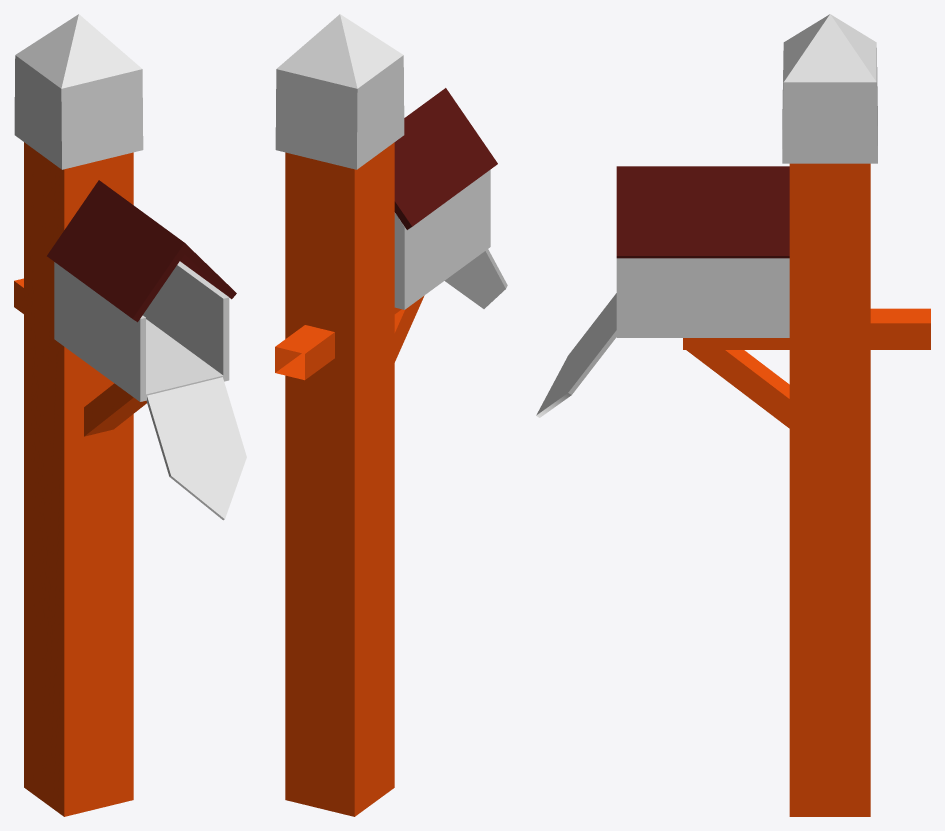
Rendered from letter_box_3.FBX.
The picture shows the model from 3 angles, left to right: view 1: azimuth 30°, elevation 25°; view 2: azimuth 150°, elevation 25°; view 3: azimuth 270°, elevation 25°; orthographic projection.
Visible parts, largest first — view 1: letter_box_3; view 2: letter_box_3; view 3: letter_box_3.
Boxes of the visible parts, bbox=[...] form: letter_box_3: bbox=[14, 14, 246, 816]; letter_box_3: bbox=[275, 14, 507, 816]; letter_box_3: bbox=[536, 14, 930, 816].
Bounding box in the file's own units: 0.2783 × 1.98 × 0.9031.
Materials: 1 (1 with a texture image).
